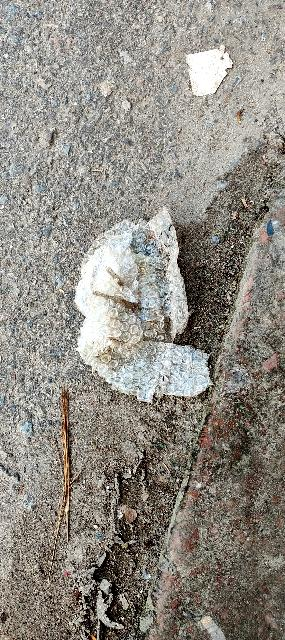polythene: (85, 219, 210, 414)
